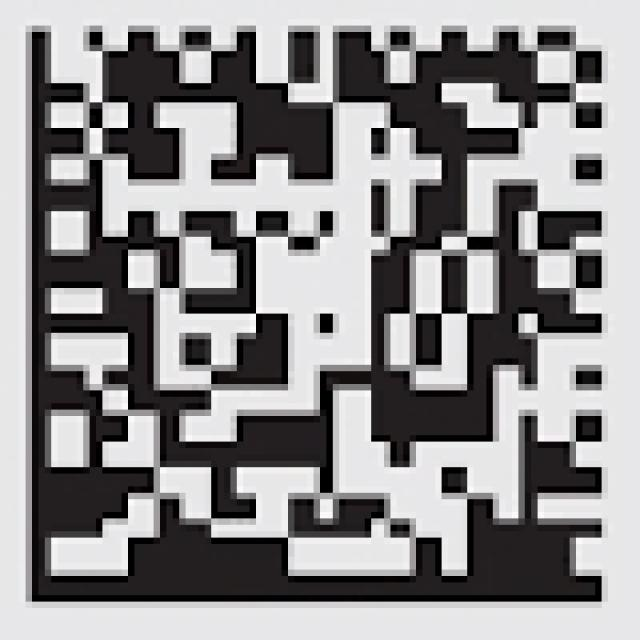datamatrix: (19, 13, 640, 614)
